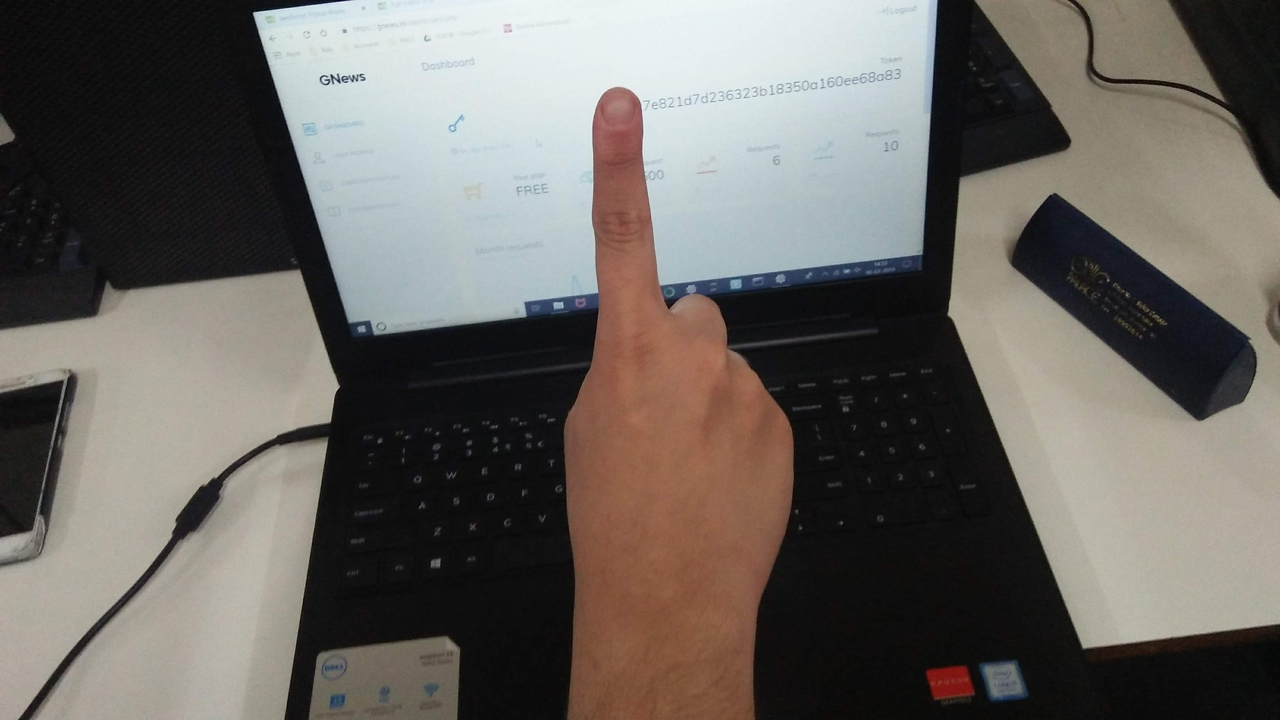fingertip: (588, 84, 646, 136)
